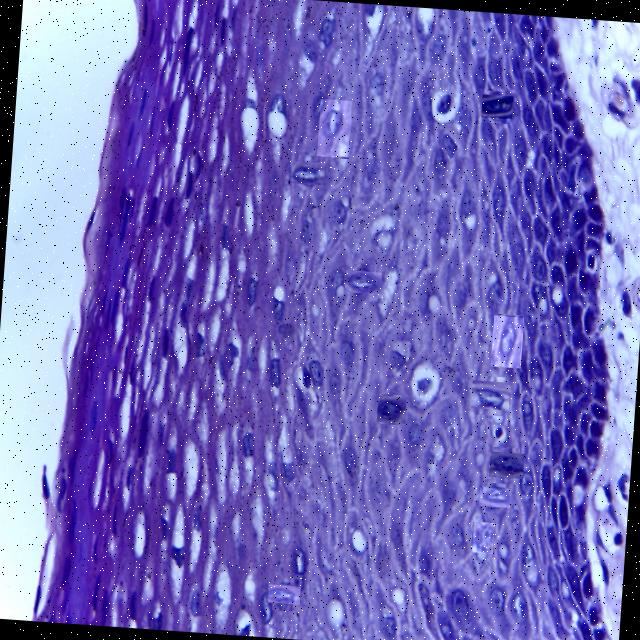Multiple Nucleol: (316, 98, 350, 154), (491, 315, 521, 366), (472, 380, 508, 408), (489, 450, 522, 477), (344, 270, 379, 293), (376, 395, 405, 421), (290, 161, 324, 183), (480, 94, 511, 117), (472, 521, 492, 551), (478, 486, 509, 505), (267, 583, 297, 602)
